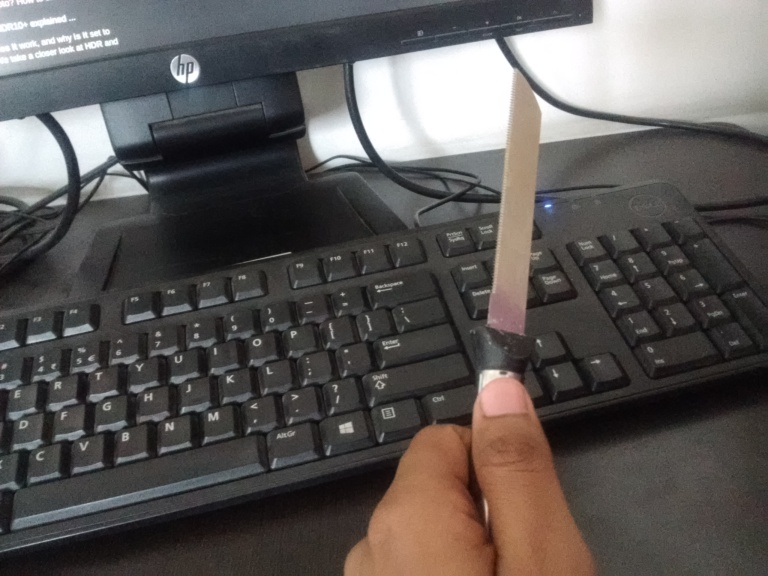knife: (469, 65, 546, 380)
